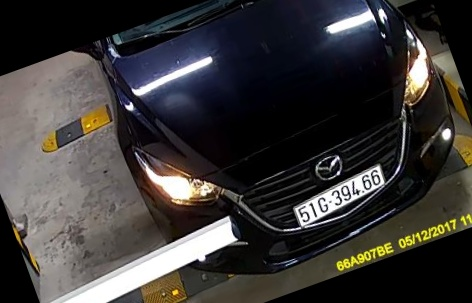plate: (282, 164, 391, 228)
